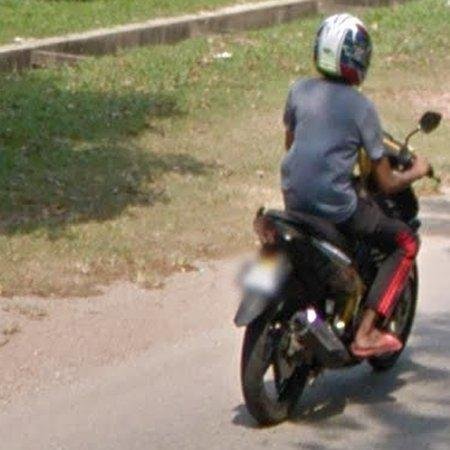motorcycles: (235, 208, 388, 426), (353, 149, 420, 238), (380, 264, 419, 343)
